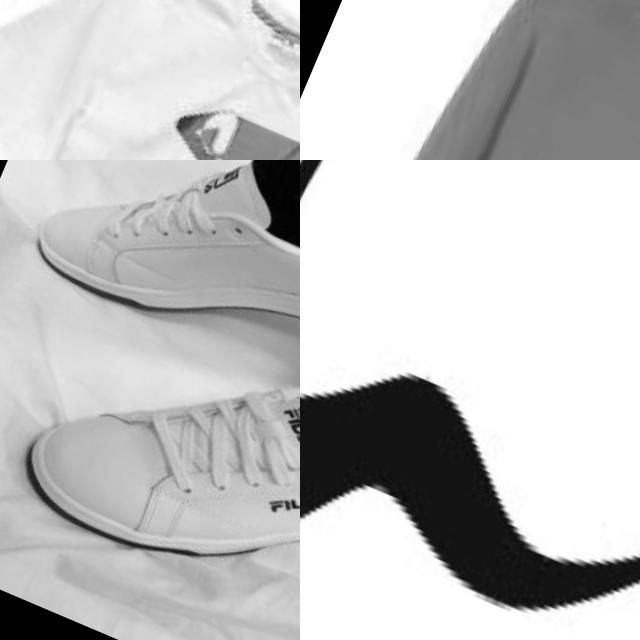FILA_fake: (103, 81, 300, 160)
FILA_original: (264, 371, 300, 477), (254, 473, 300, 536)
NIKE_fake: (300, 160, 640, 640)
